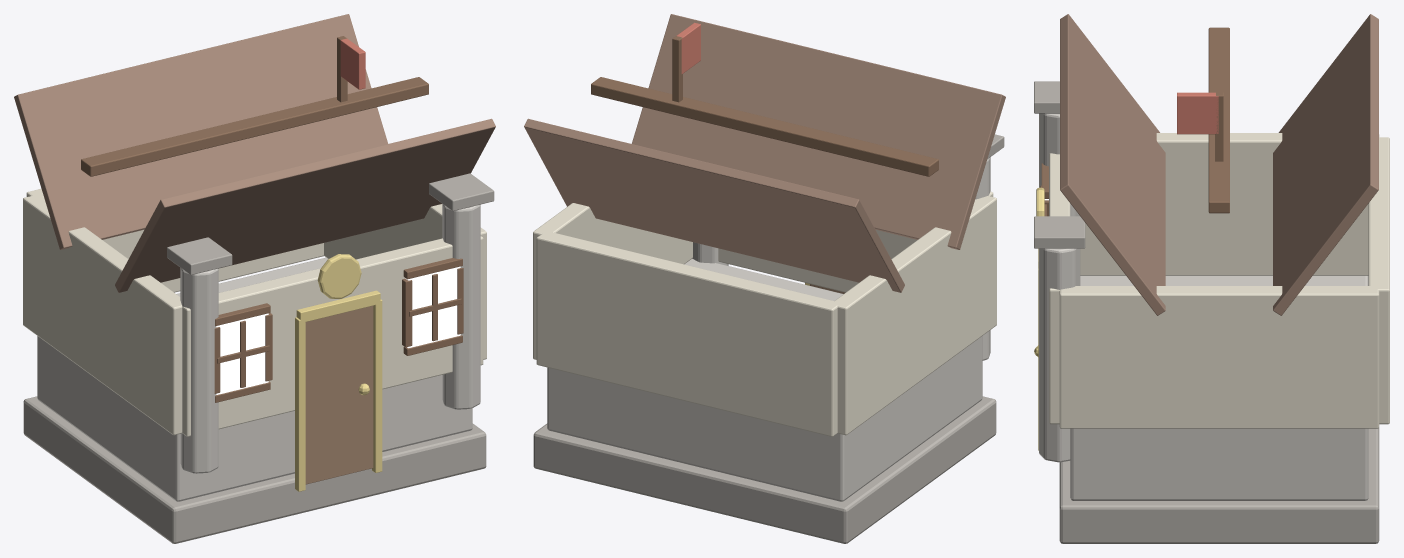
The model's file is bank_v2.glb.
3 renders of one model, left to right at view 1: azimuth 30°, elevation 25°; view 2: azimuth 150°, elevation 25°; view 3: azimuth 270°, elevation 25°, orthographic. The views are drawn at different scales.
Visible parts, largest first — view 1: Roof_Back, Roof_Front, Wall_Left, Base_Stone, Foundation, Wall_Front, Door, Roof_Ridge, Column_L, Column_R, Wall_Right, WinR_Glow (+12 smaller); view 2: Roof_Front, Wall_Back, Base_Stone, Roof_Back, Wall_Left, Foundation, Roof_Ridge, Wall_Right, Wall_Front, Flag, Flag_Pole, Column_L; view 3: Wall_Right, Base_Stone, Roof_Back, Roof_Front, Wall_Left, Foundation, Column_R, Wall_Back, Roof_Ridge, Wall_Front, Flag, Cap_R (+3 smaller).
Boxes of the visible parts, x1=… form: Roof_Back: x1=14, y1=14, x2=388, y2=249; Roof_Front: x1=115, y1=118, x2=495, y2=292; Wall_Left: x1=23, y1=194, x2=182, y2=435; Base_Stone: x1=37, y1=257, x2=472, y2=501; Foundation: x1=23, y1=396, x2=486, y2=543; Wall_Front: x1=182, y1=236, x2=483, y2=436; Door: x1=305, y1=306, x2=373, y2=484; Roof_Ridge: x1=81, y1=77, x2=428, y2=176; Column_L: x1=180, y1=268, x2=218, y2=473; Column_R: x1=442, y1=204, x2=480, y2=409; Wall_Right: x1=324, y1=204, x2=486, y2=359; WinR_Glow: x1=405, y1=266, x2=460, y2=348; Roof_Front: x1=631, y1=14, x2=1005, y2=249; Wall_Back: x1=536, y1=232, x2=837, y2=436; Base_Stone: x1=547, y1=258, x2=982, y2=501; Roof_Back: x1=524, y1=118, x2=904, y2=292; Wall_Left: x1=831, y1=196, x2=996, y2=435; Foundation: x1=533, y1=396, x2=996, y2=543; Roof_Ridge: x1=591, y1=77, x2=938, y2=176; Wall_Right: x1=533, y1=203, x2=692, y2=359; Wall_Front: x1=718, y1=191, x2=993, y2=292; Flag: x1=676, y1=22, x2=700, y2=73; Flag_Pole: x1=672, y1=36, x2=682, y2=102; Column_L: x1=975, y1=157, x2=990, y2=360; Wall_Right: x1=1059, y1=286, x2=1379, y2=428; Base_Stone: x1=1070, y1=275, x2=1368, y2=500; Roof_Back: x1=1273, y1=14, x2=1378, y2=315; Roof_Front: x1=1060, y1=14, x2=1165, y2=315; Wall_Left: x1=1080, y1=133, x2=1379, y2=275; Foundation: x1=1059, y1=427, x2=1379, y2=543; Column_R: x1=1039, y1=248, x2=1080, y2=462; Wall_Back: x1=1368, y1=137, x2=1389, y2=424; Roof_Ridge: x1=1208, y1=27, x2=1229, y2=213; Wall_Front: x1=1049, y1=153, x2=1070, y2=424; Flag: x1=1177, y1=92, x2=1218, y2=134; Cap_R: x1=1034, y1=216, x2=1085, y2=248.
Size of the model in its own units: 1.94 by 2.15 by 1.67.
